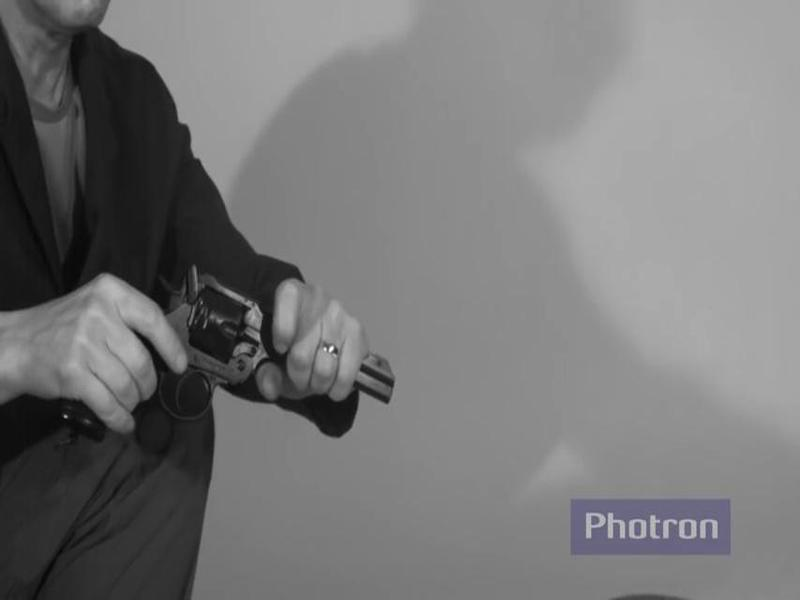Revolver: (48, 265, 406, 464)
